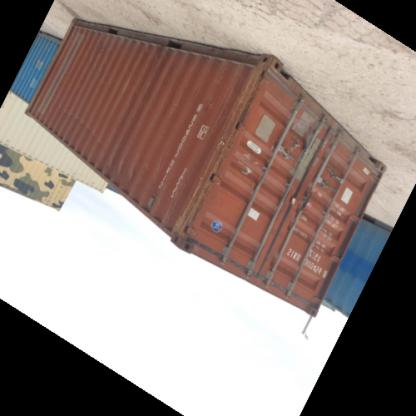Damage: (172, 175, 216, 248), (292, 115, 326, 185), (227, 74, 265, 136), (62, 109, 106, 148), (114, 156, 144, 186), (238, 152, 262, 180), (92, 44, 107, 62)
